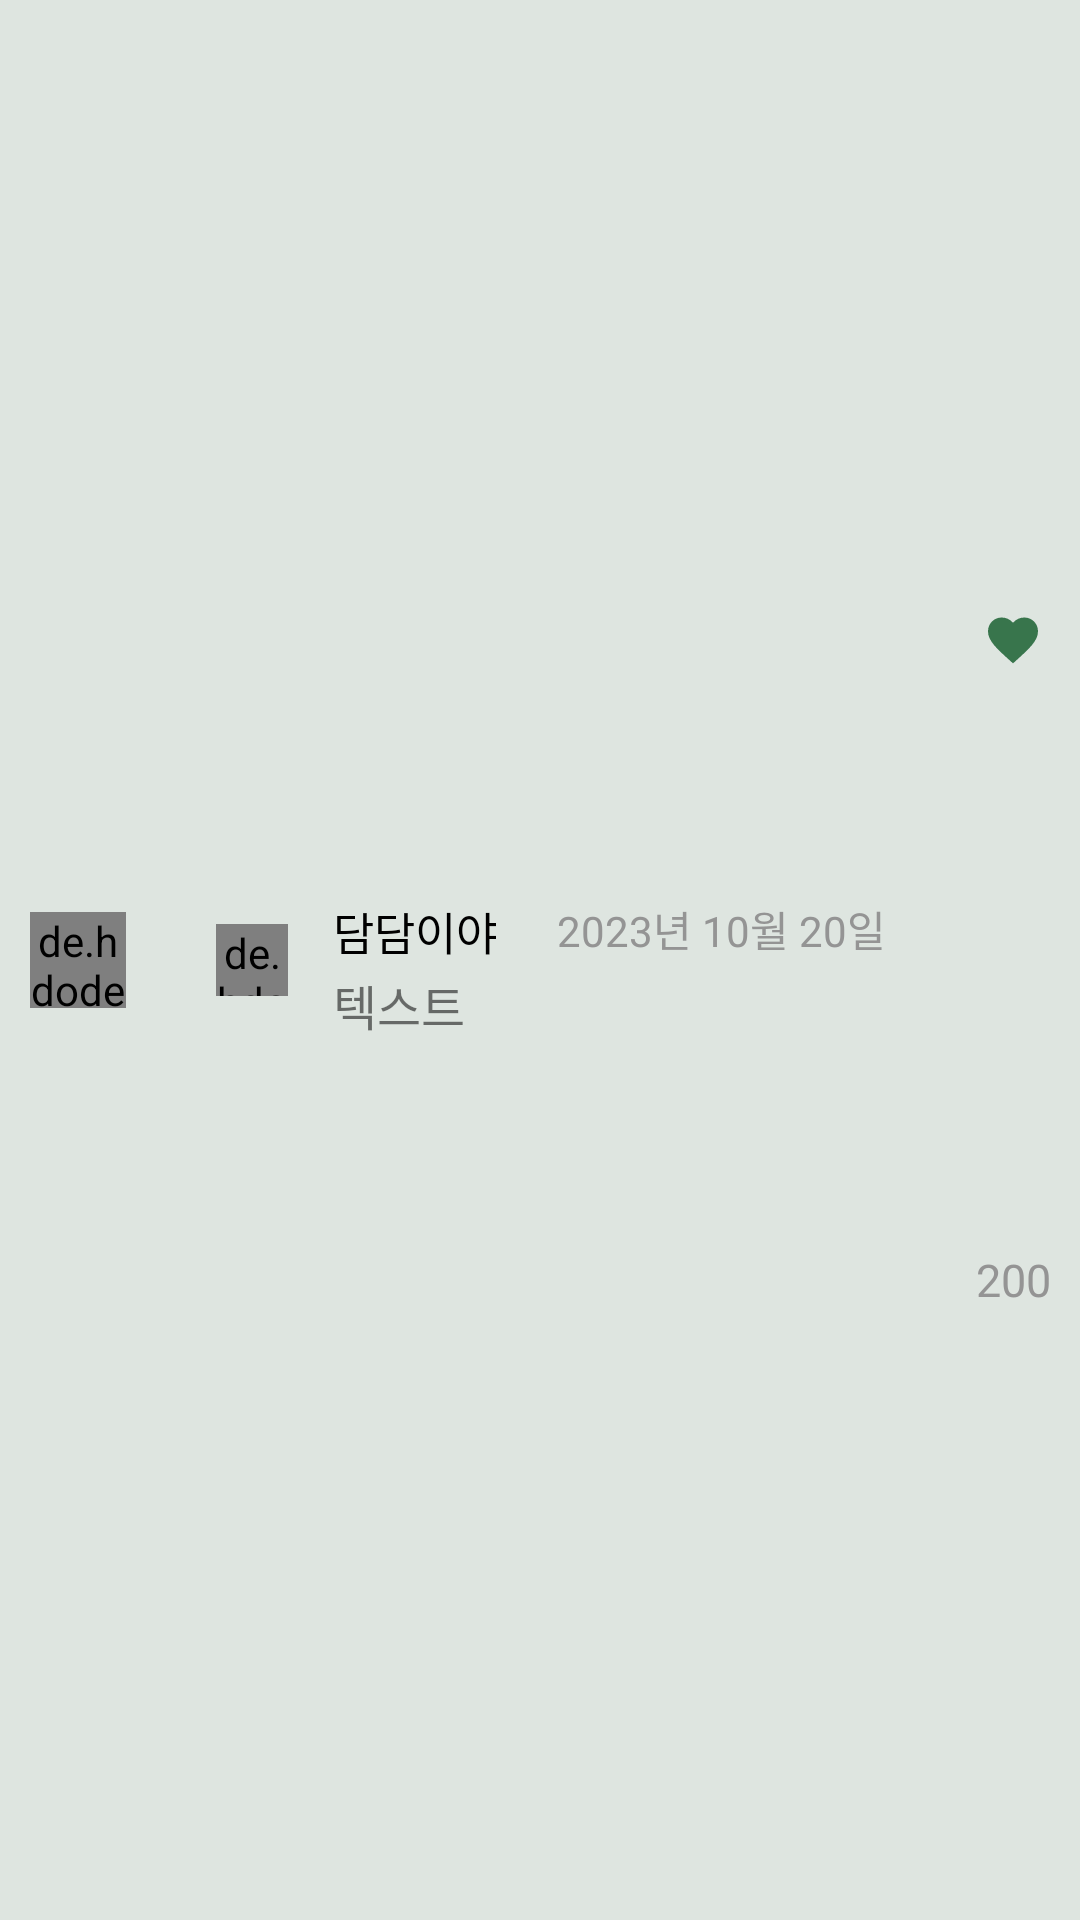

Named icons in this screenshot (1080px×1920px) and their centers, point (x, y):
newgreenheart: point (1013, 640)
